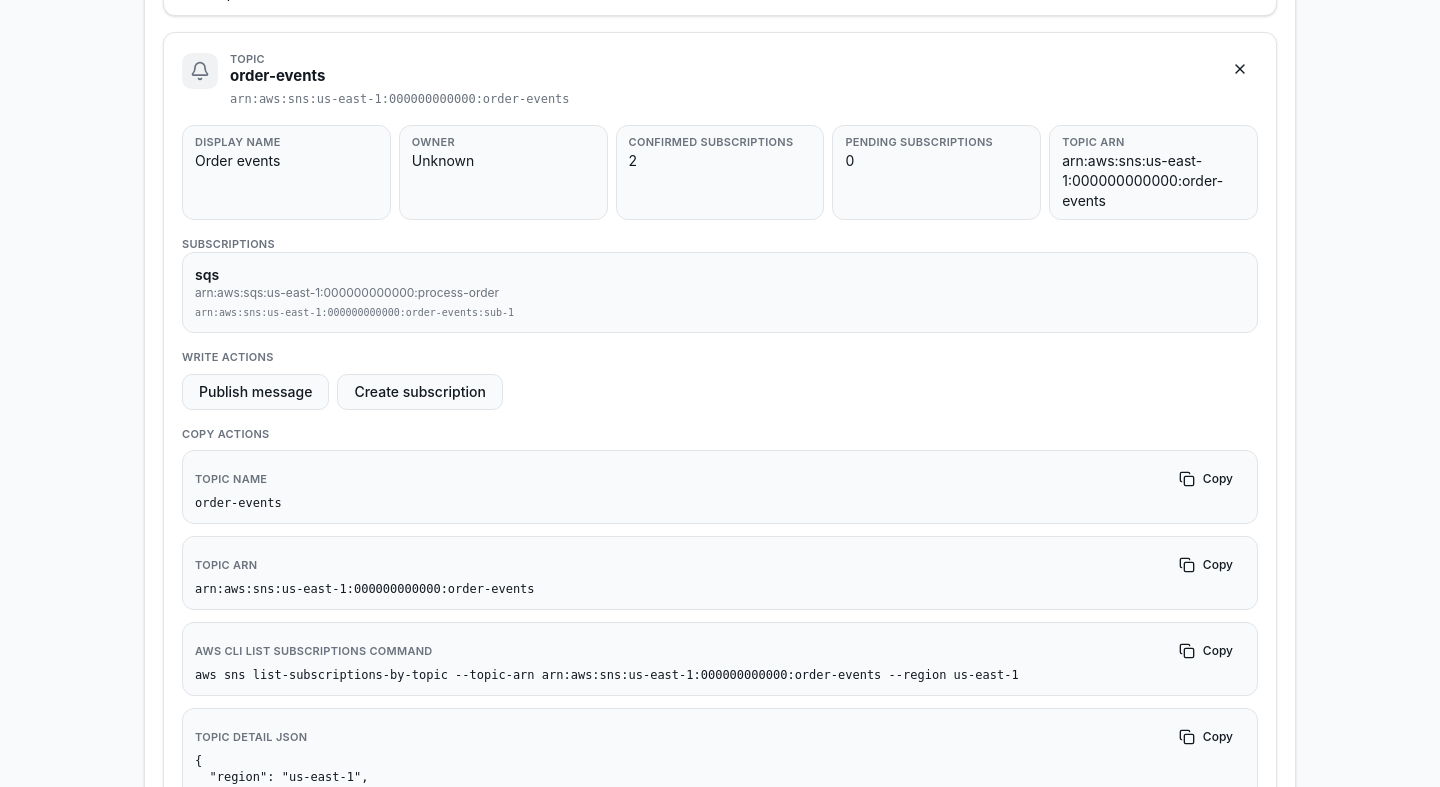
Test: SNSView › does not close a reopened dialog when an earlier publish succeeds
This screenshot has width=1440, height=787.
(page scrolled)
Click the button "Publish message".
click(256, 392)  # box 182,374 -> 329,410
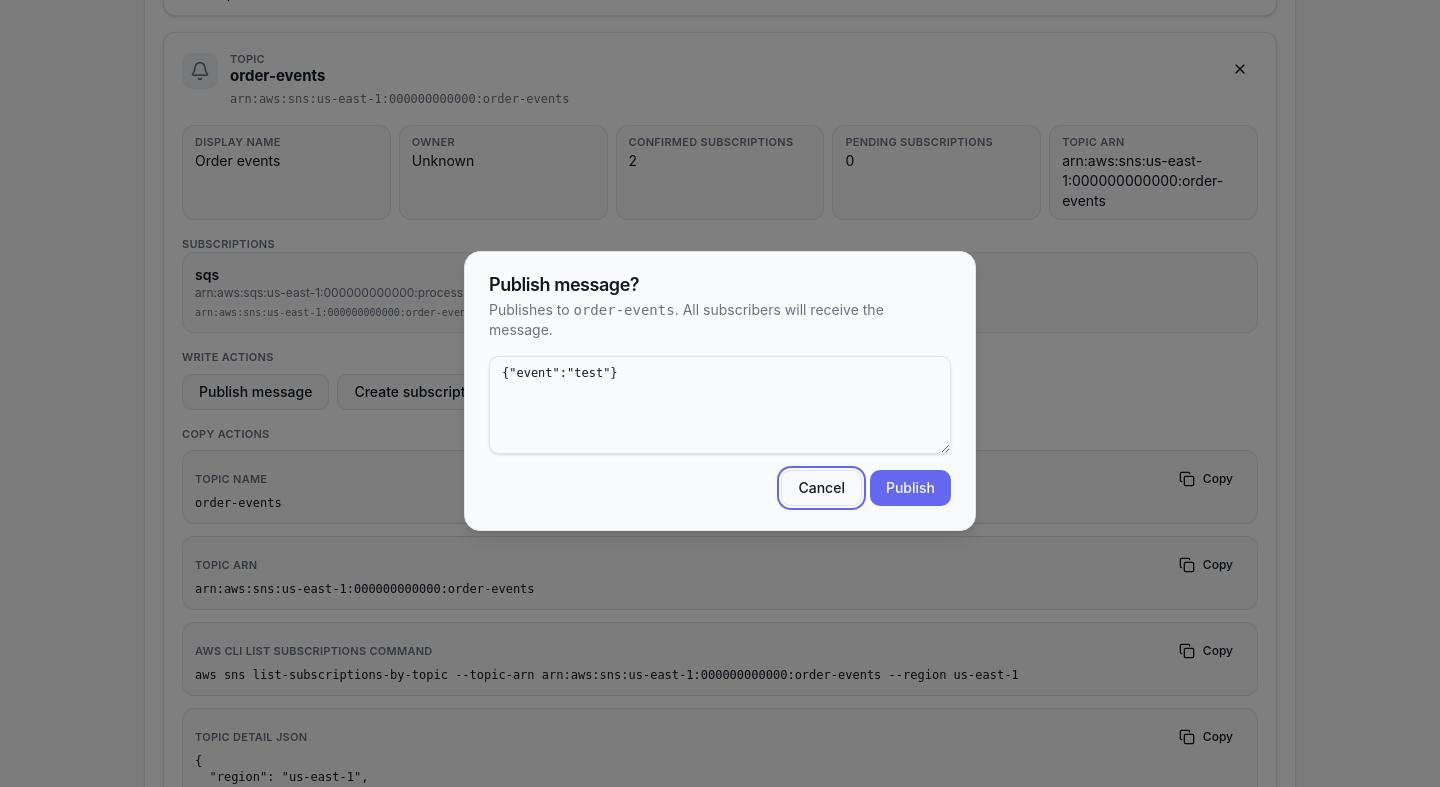
Replace the text in the text box named "Topic message text" with "first draft" at x=720, y=405, box 489,356 -> 951,454
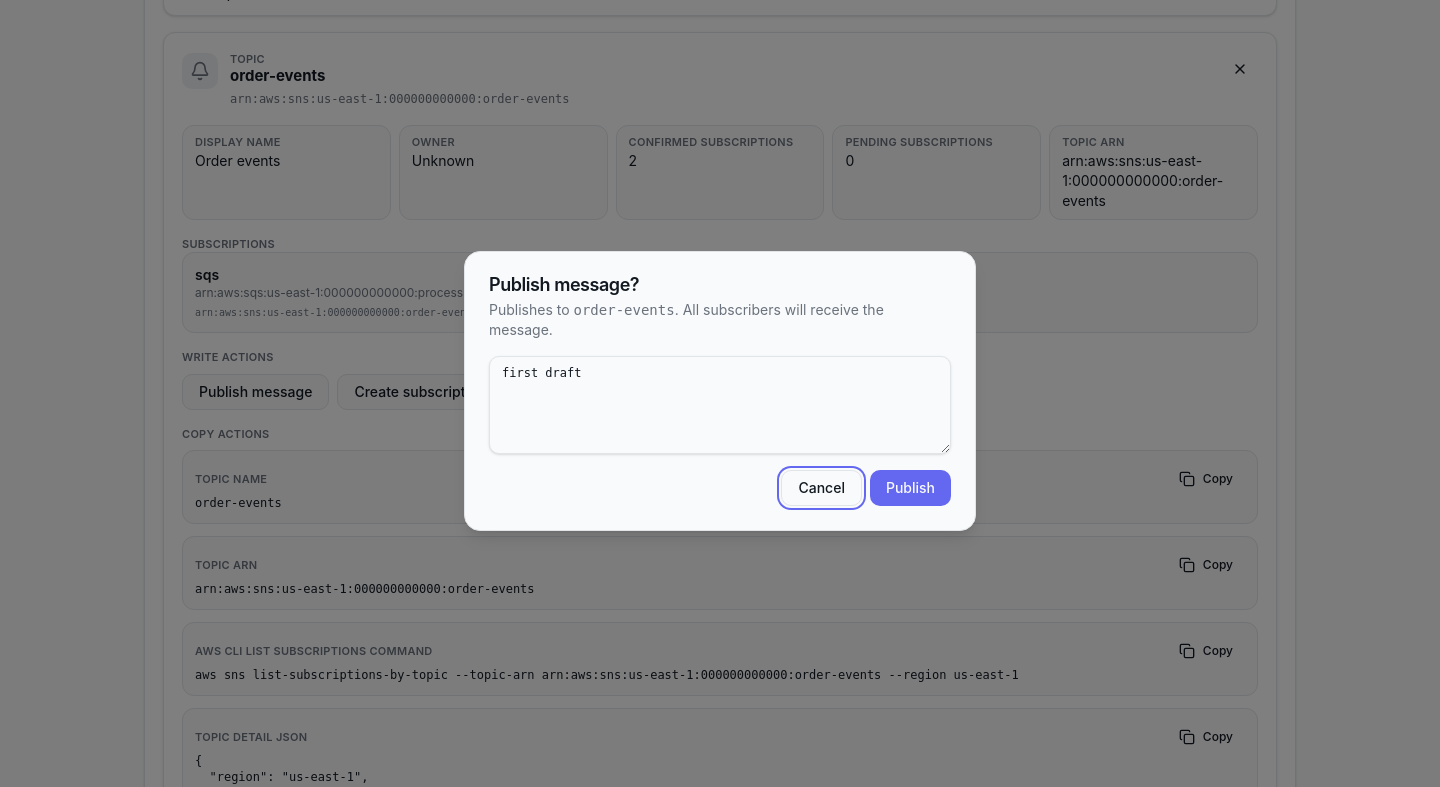
Click the button "Publish".
click(910, 488)  # box 870,470 -> 951,506
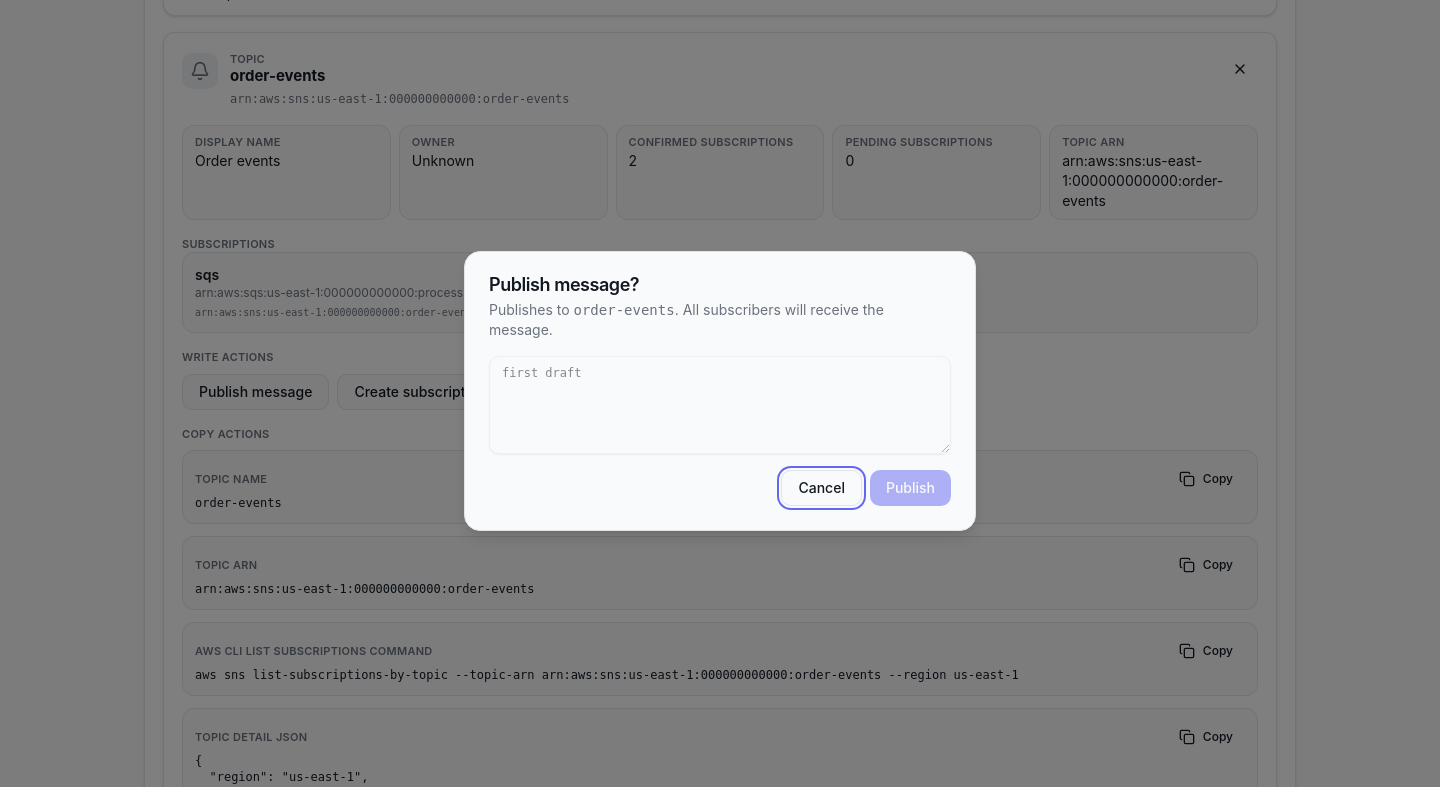
Click the button "Cancel".
click(822, 488)  # box 781,470 -> 862,506
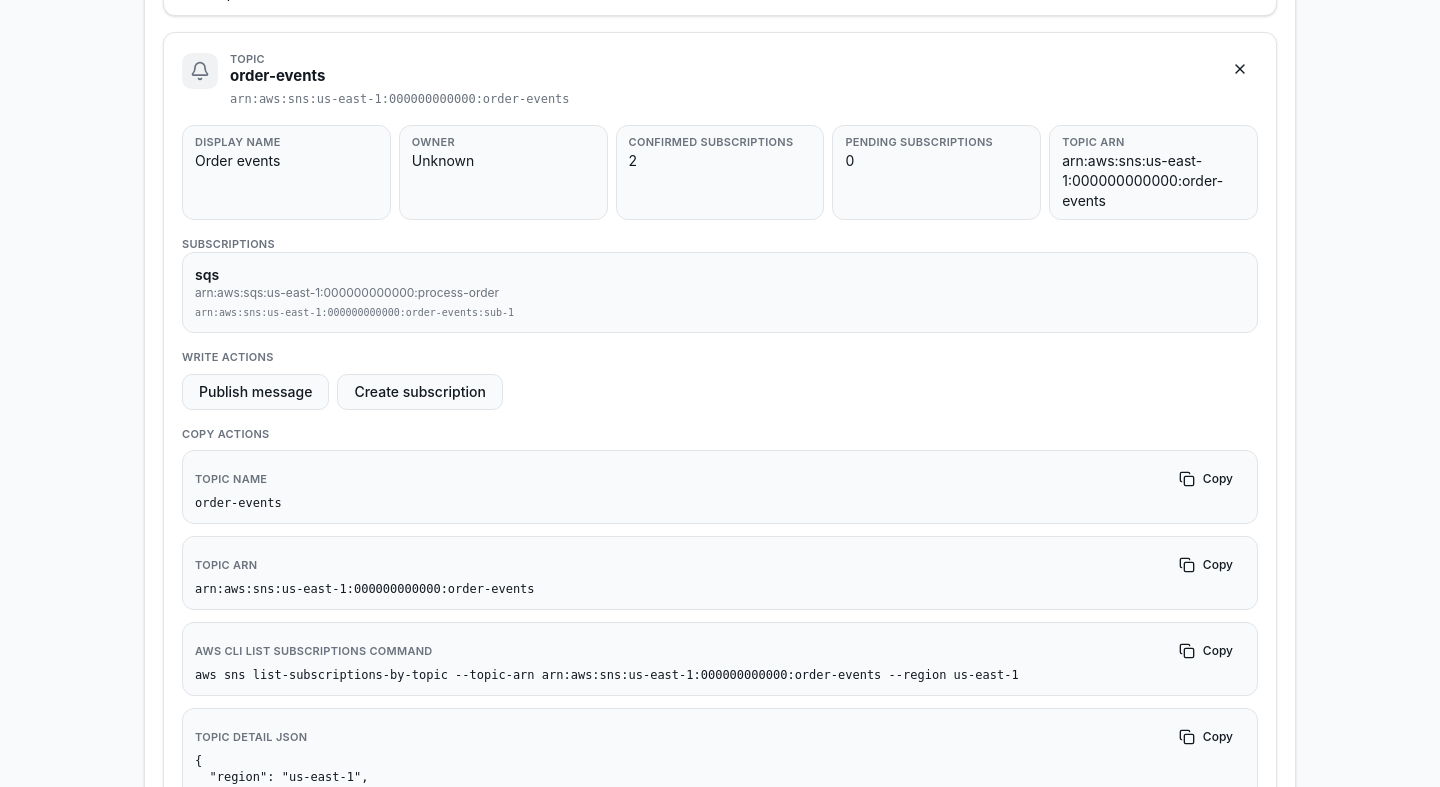
Now the dialog is gone
Click the button "Publish message".
click(256, 392)  # box 182,374 -> 329,410
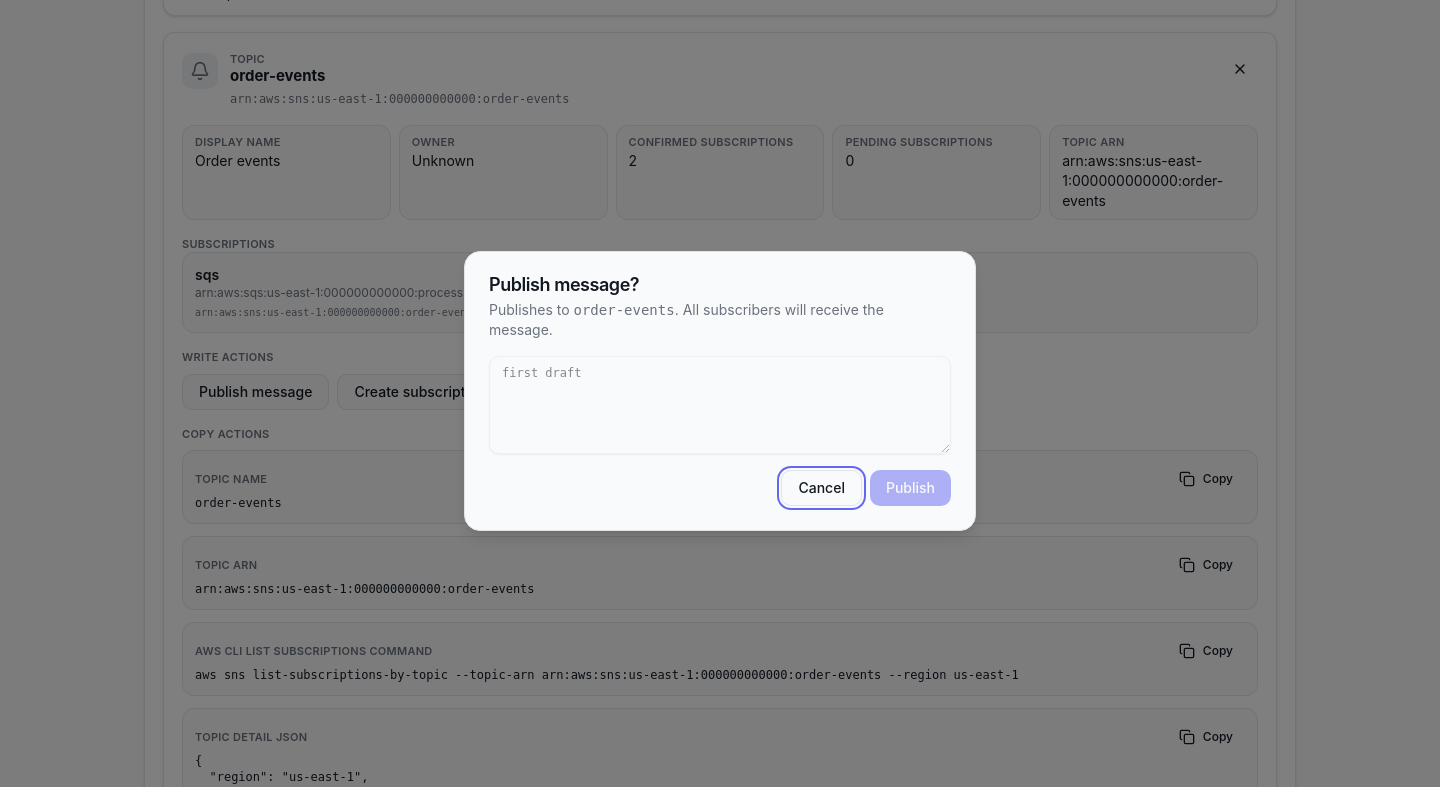
Now the text box named "Topic message text" is disabled, box 489,356 -> 951,454
Now the button "Publish" is disabled
Click the button "Publish".
click(910, 488)  # box 870,470 -> 951,506
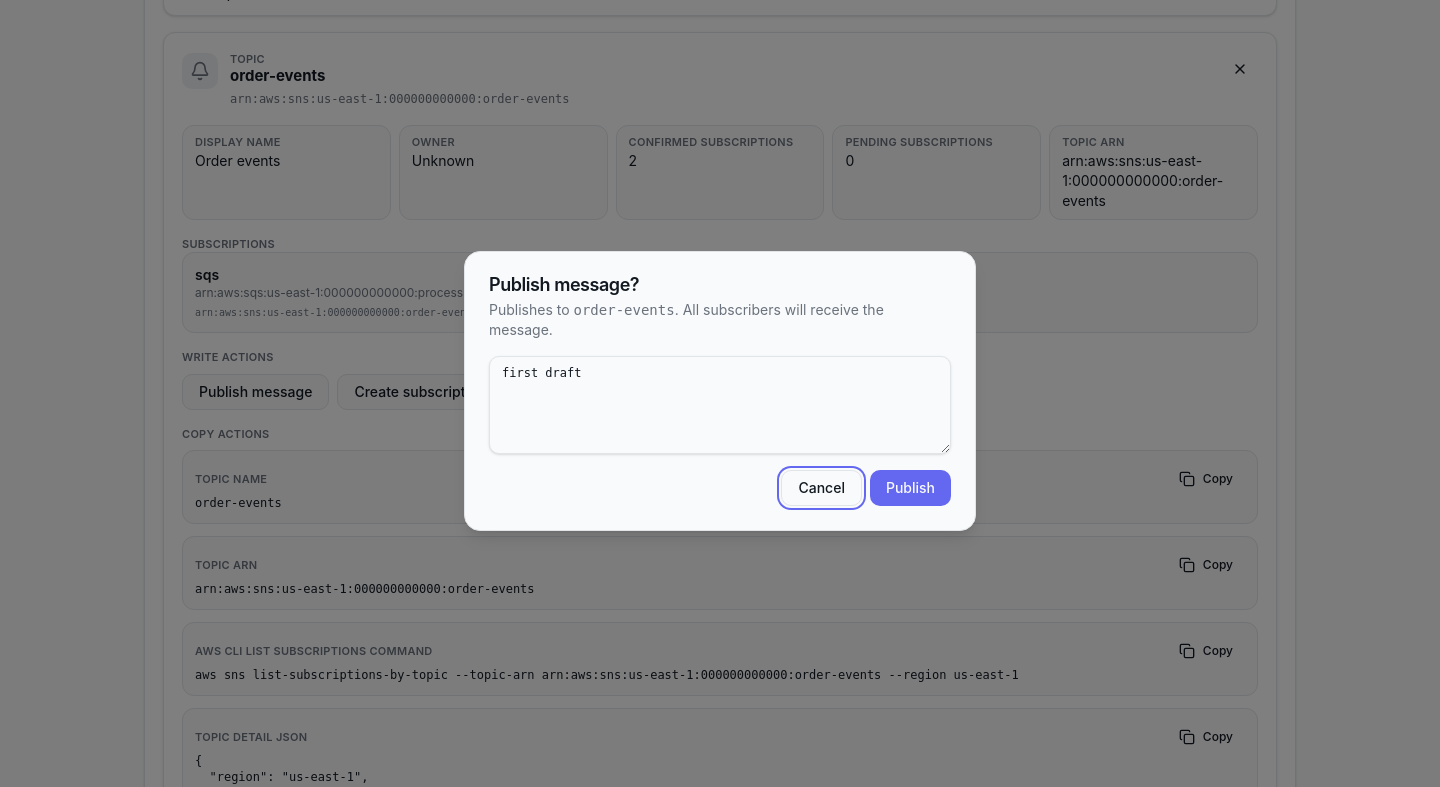
Now the dialog is shown, box 464,251 -> 976,531
Now the text box named "Topic message text" holds "first draft", box 489,356 -> 951,454
Now the text box named "Topic message text" is enabled, box 489,356 -> 951,454
